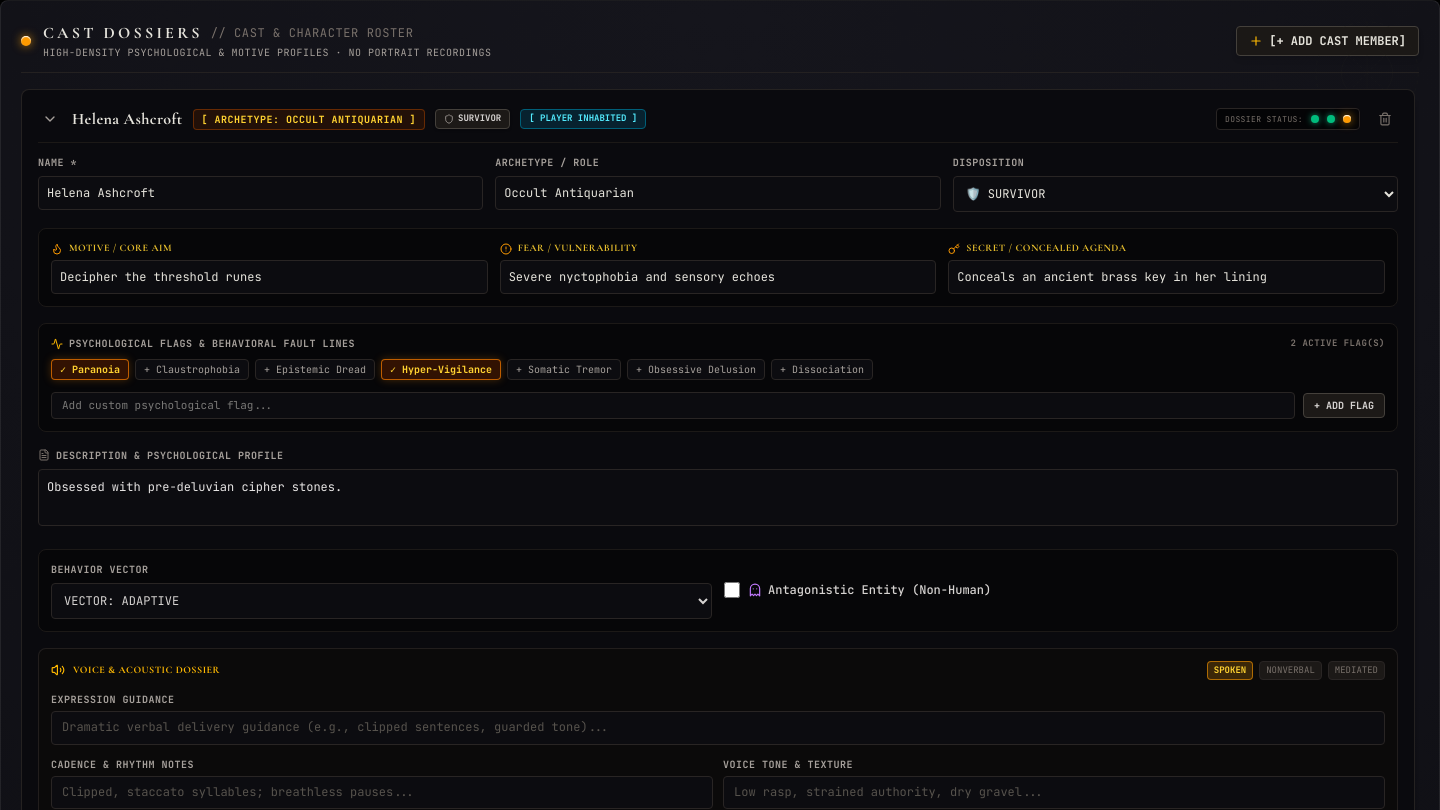
Test: CastManager Pure Text Cast Dossier Component › collapses and expands dossier into a compact high-density text summary ribbon
Click the button named "Collapse dossier" at (50, 119), box [38, 107, 62, 131]
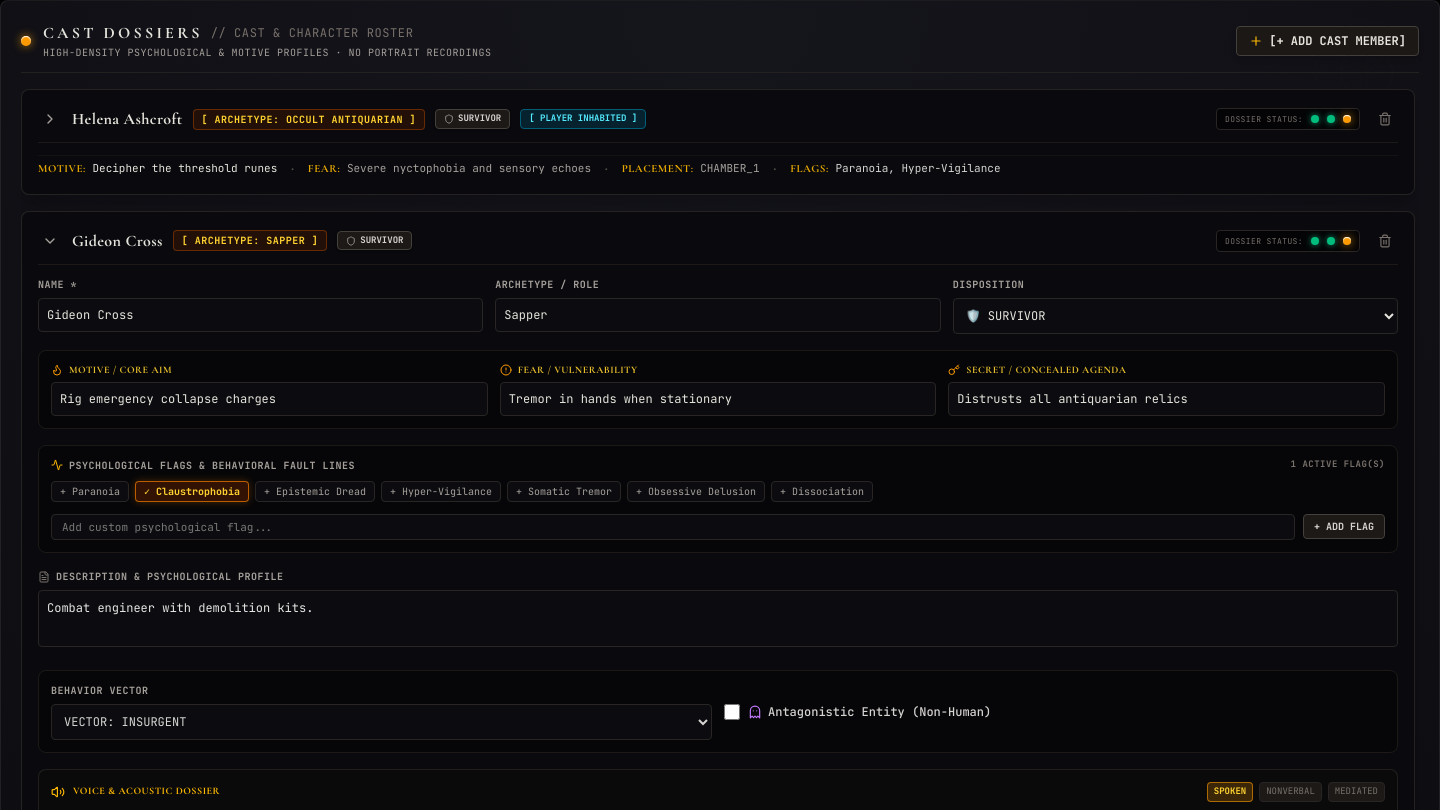
Expected: the element with id "character-card-char-occ-1" shows "Motive:", [38, 162, 86, 175]
Expected: the element with id "character-card-char-occ-1" shows "Fear:", [308, 162, 340, 175]
Expected: the element with id "character-card-char-occ-1" shows "Placement:", [622, 162, 694, 175]
